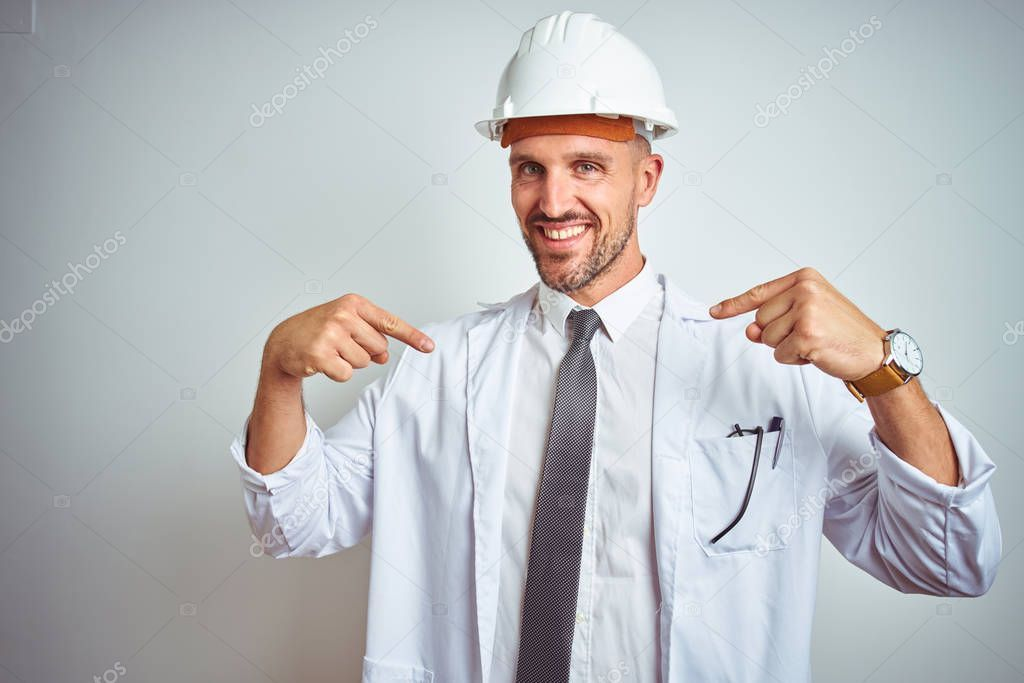Person_wearing_helmet: (474, 9, 684, 195)
